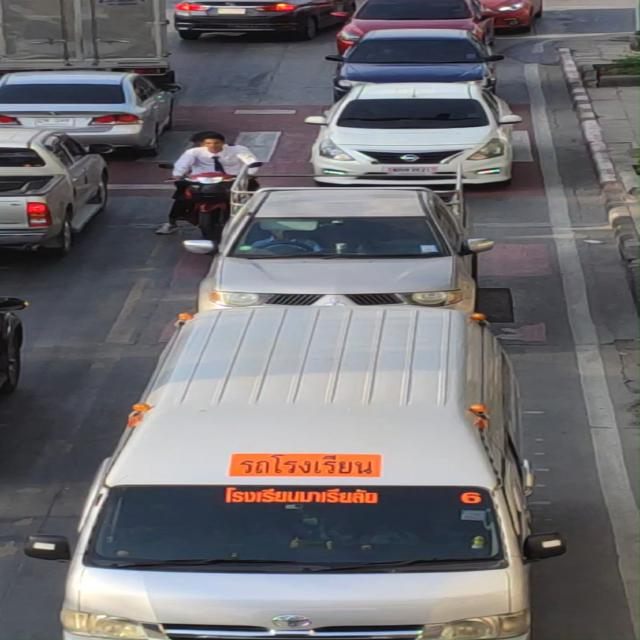car: (49, 289, 578, 640), (202, 180, 501, 322), (308, 76, 550, 185)
